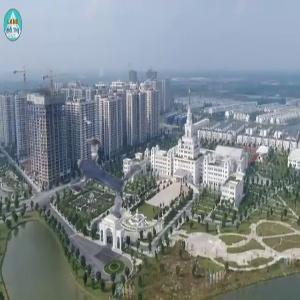drone: (52, 127, 153, 228)
